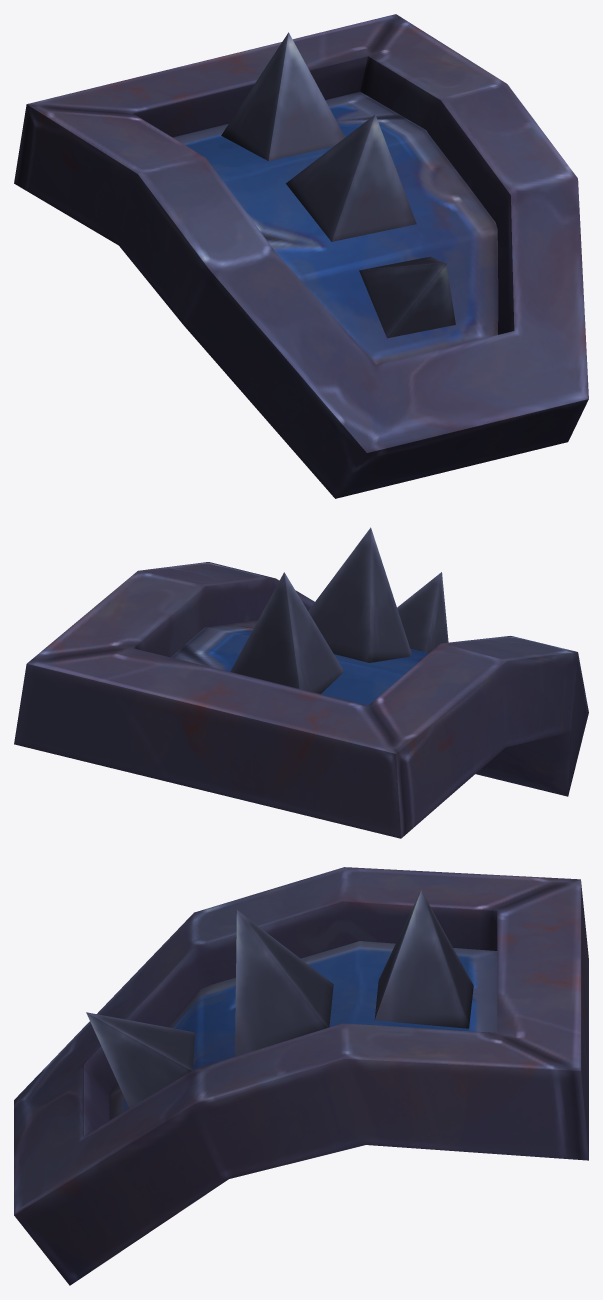
The model's file is armor_blue_02.fbx.
The picture shows the model from 3 angles, top to bottom: view 1: azimuth 30°, elevation 25°; view 2: azimuth 150°, elevation 25°; view 3: azimuth 270°, elevation 25°; orthographic projection. The views are drawn at different scales.
Visible parts, largest first — view 1: armor_blue_02; view 2: armor_blue_02; view 3: armor_blue_02.
Boxes of the visible parts, left/top/right/bottom form: armor_blue_02: left=14, top=14, right=588, bottom=498; armor_blue_02: left=14, top=527, right=588, bottom=838; armor_blue_02: left=14, top=867, right=588, bottom=1285.
Size of the model in its own units: 0.5827 by 0.4557 by 0.7051.
